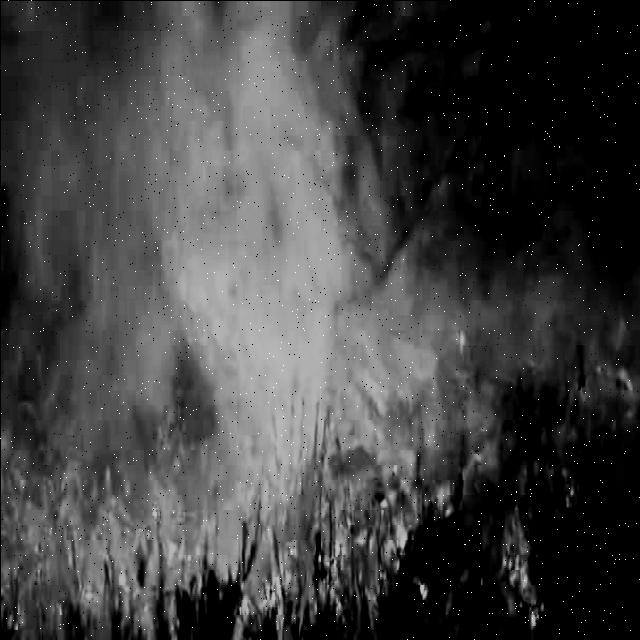api: (154, 186, 357, 442), (501, 471, 551, 628), (370, 509, 415, 583), (430, 483, 468, 517), (415, 584, 433, 604)
asap: (1, 1, 184, 486), (198, 1, 396, 349)
